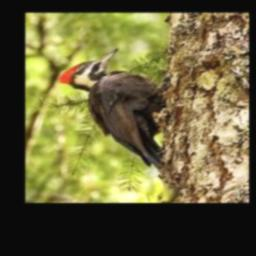Woodpecker: (59, 48, 167, 170)
